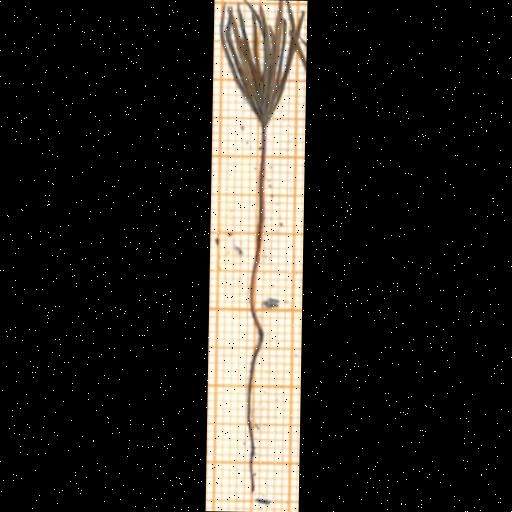flowerPinus: (219, 0, 294, 125)
rootPinus: (246, 307, 263, 488)
stemPinus: (248, 126, 265, 311)
